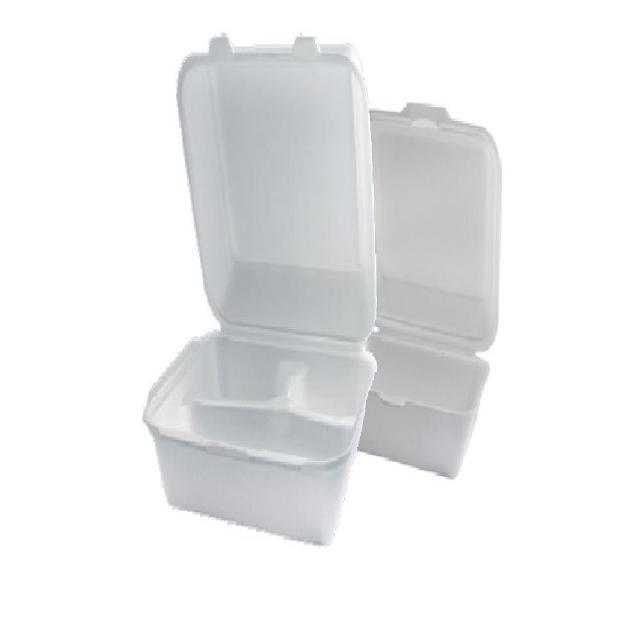styrofoam: (141, 29, 502, 546)
